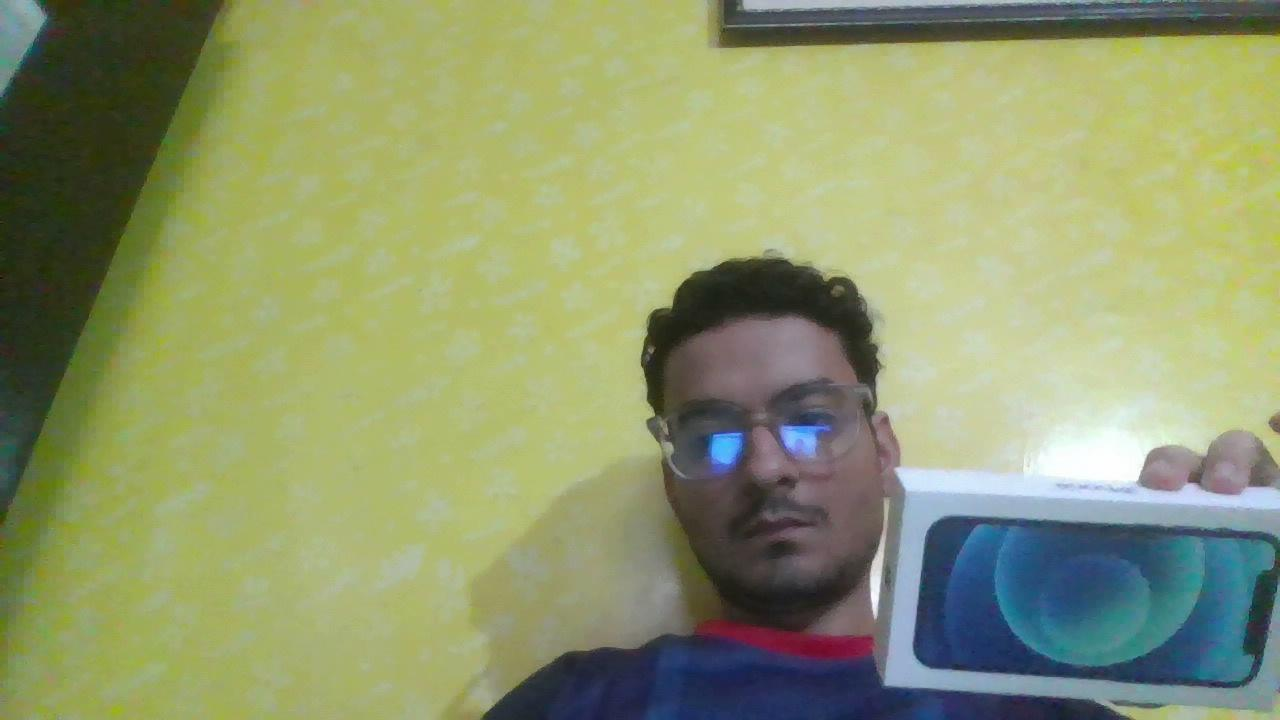Phone: (868, 444, 1280, 720)
